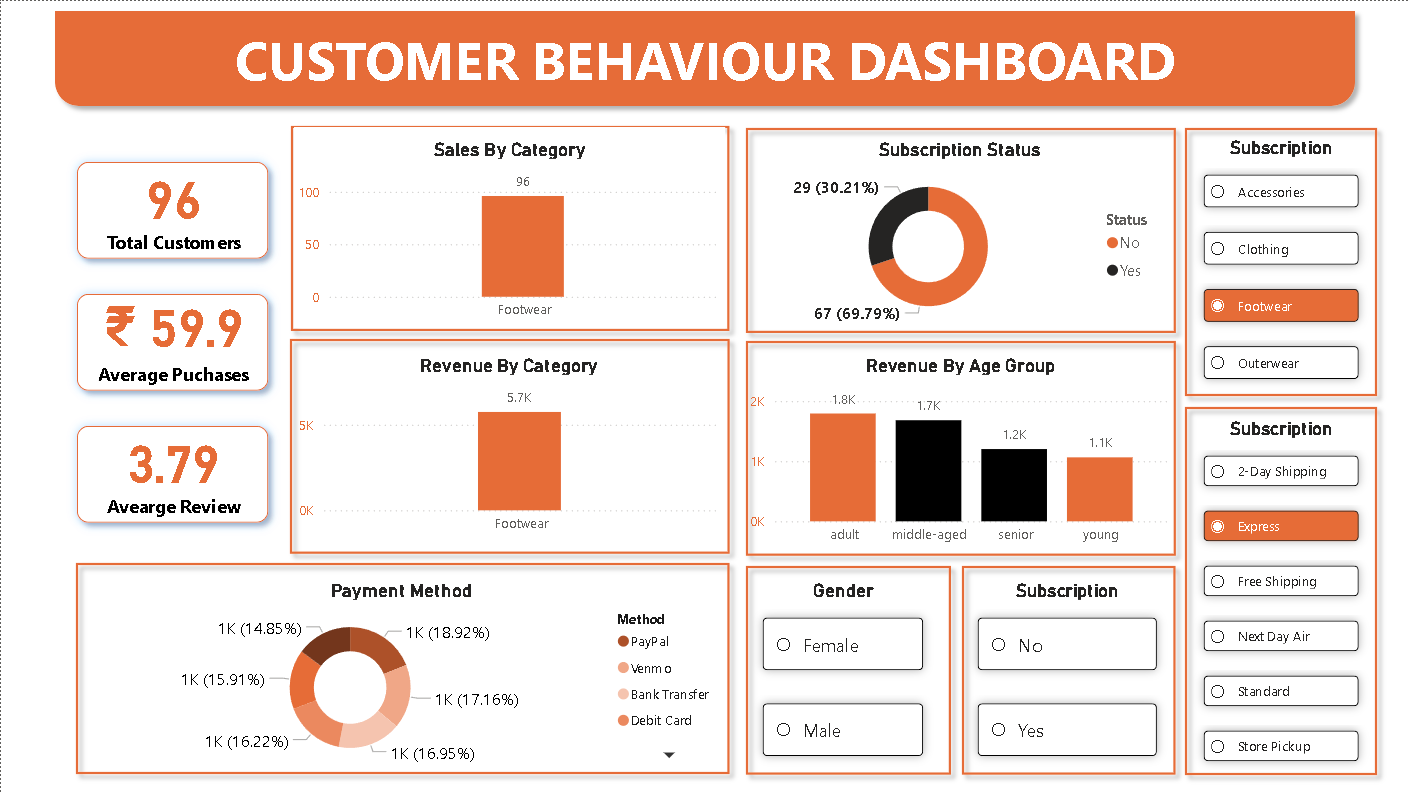

Layout of this report page (visuals, bound fields, positions):
{"tool":"powerbi","page":{"name":"Page 1","canvas":[1280,720],"ordinal":0},"visuals":[{"type":"cardVisual","fields":{"Data":["data_analysis mytable.Total Customers","data_analysis mytable.Average Puchases","data_analysis mytable.Avearge Review"]},"box":[40,117.3,232.7,387.3],"z":0},{"type":"shape","box":[40,0,1200,104.4],"z":1000},{"type":"donutChart","title":"Subscription Status","fields":{"Category":["data_analysis mytable.subscription_status"],"Y":["CountNonNull(data_analysis mytable.subscription_status)"]},"box":[676.7,114.4,391.1,183.3],"z":2000},{"type":"shape","box":[667.8,106.7,408.9,204.4],"z":3000},{"type":"columnChart","title":"Revenue By Category","fields":{"Category":["data_analysis mytable.category"],"Y":["Sum(data_analysis mytable.purchase_amount)"]},"box":[266.7,311.1,391.1,181.1],"z":4000},{"type":"textbox","box":[48.9,14.4,1182.2,83.3],"z":5000},{"type":"shape","box":[254.4,104.4,416.7,204.4],"z":6000},{"type":"donutChart","title":"Payment Method","fields":{"Category":["data_analysis mytable.payment_method"],"Y":["Sum(data_analysis mytable.purchase_amount)"]},"box":[70,515.6,587.8,183.3],"z":7000},{"type":"shape","box":[58.9,502.2,612.2,210],"z":8000},{"type":"shape","box":[253.3,297.8,417.8,213.3],"z":9000},{"type":"columnChart","title":"Sales By Category","fields":{"Category":["data_analysis mytable.category"],"Y":["CountNonNull(data_analysis mytable.item_purchased)"]},"box":[266.7,114.4,392.2,183.3],"z":10000},{"type":"shape","box":[667.8,300,408.9,213.3],"z":11000},{"type":"shape","box":[667.8,504.4,204.4,207.8],"z":12000},{"type":"columnChart","title":"Revenue By Age Group","fields":{"Category":["data_analysis mytable.age_group"],"Y":["Sum(data_analysis mytable.purchase_amount)"]},"box":[676.7,311.1,391.1,191.1],"z":13000},{"type":"shape","box":[1067.3,106.4,192.7,261.8],"z":13500},{"type":"shape","box":[1067.3,360,192.7,352.7],"z":13625},{"type":"advancedSlicerVisual","title":"Subscription","fields":{"Values":["data_analysis mytable.shipping_type"]},"box":[1077.3,368.2,173.6,343.6],"z":13750},{"type":"advancedSlicerVisual","title":"Gender","fields":{"Values":["data_analysis mytable.gender"]},"box":[676.7,515.6,178.9,187.8],"z":14000},{"type":"shape","box":[864.4,504.4,212.2,207.8],"z":15000},{"type":"advancedSlicerVisual","title":"Subscription","fields":{"Values":["data_analysis mytable.subscription_status"]},"box":[872.2,515.6,195.6,187.8],"z":16000},{"type":"advancedSlicerVisual","title":"Subscription","fields":{"Values":["data_analysis mytable.category"]},"box":[1077.3,112.7,173.6,247.3],"z":19000}]}

Visuals, with their boxes in screenshot pixels (x1, y1, x2, y2), scaled from the page's 1280x720 canvas onto the 1409x792 screenshot:
cardVisual - data_analysis mytable.Total Customers x data_analysis mytable.Average Puchases: 44,129,300,555
shape: 44,0,1365,115
"Subscription Status" donutChart: 745,126,1175,327
shape: 735,117,1185,342
"Revenue By Category" columnChart: 294,342,724,541
textbox: 54,16,1355,107
shape: 280,115,739,340
"Payment Method" donutChart: 77,567,724,769
shape: 65,552,739,783
shape: 279,328,739,562
"Sales By Category" columnChart: 294,126,725,327
shape: 735,330,1185,565
shape: 735,555,960,783
"Revenue By Age Group" columnChart: 745,342,1175,552
shape: 1175,117,1387,405
shape: 1175,396,1387,784
"Subscription" advancedSlicerVisual: 1186,405,1377,783
"Gender" advancedSlicerVisual: 745,567,942,774
shape: 952,555,1185,783
"Subscription" advancedSlicerVisual: 960,567,1175,774
"Subscription" advancedSlicerVisual: 1186,124,1377,396
